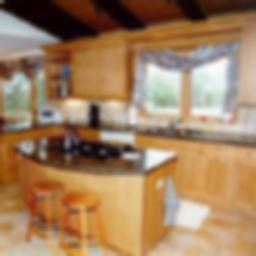Electrodomestico: (37, 142, 132, 161)
Lavaplatos: (138, 114, 212, 145)
